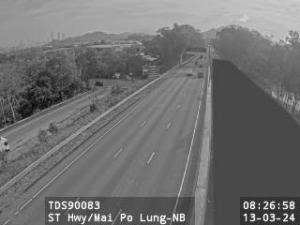vehicle: (199, 72, 204, 76), (199, 64, 203, 66), (188, 74, 192, 76), (195, 62, 198, 64)
